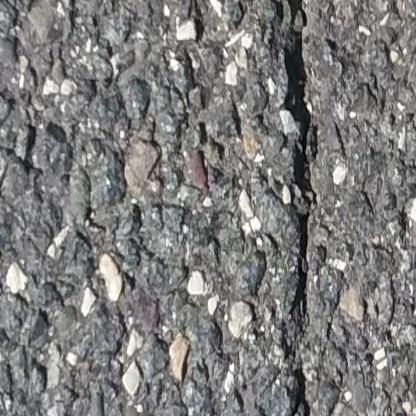Cracks: (277, 0, 321, 325), (282, 365, 318, 416)
